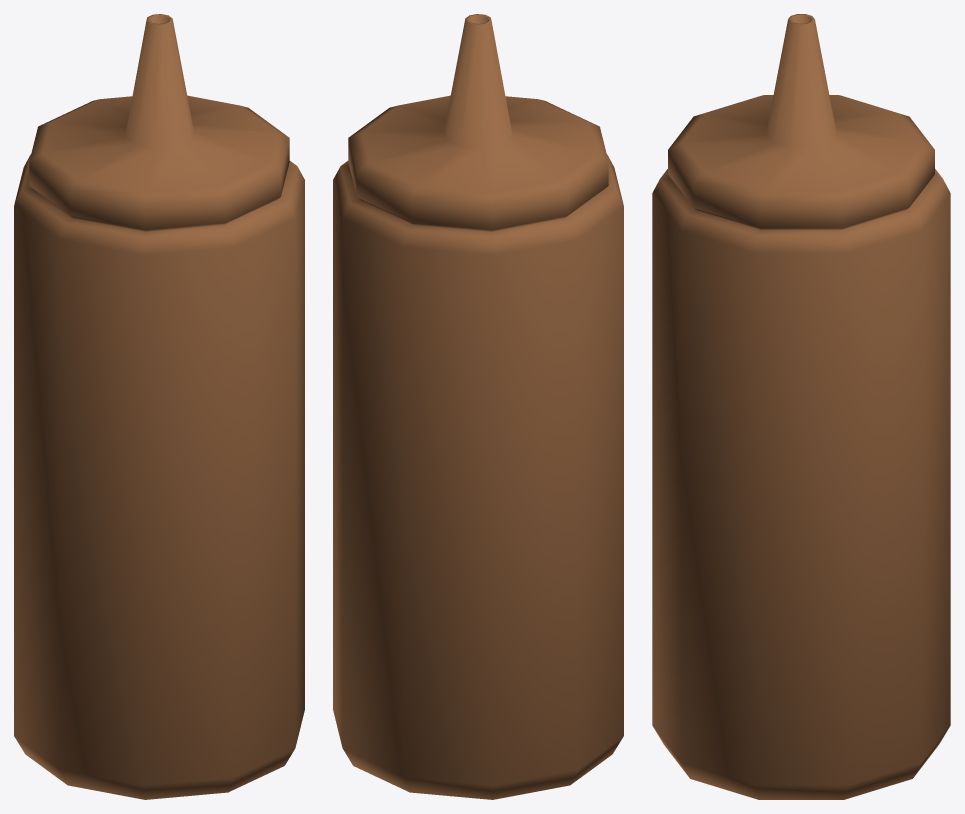
Rendered from Chocolate Bottle.fbx.
3 renders of one model, left to right at view 1: azimuth 30°, elevation 25°; view 2: azimuth 150°, elevation 25°; view 3: azimuth 270°, elevation 25°, orthographic.
Parts seen in each view (by area): view 1: Chocolate Sauce; view 2: Chocolate Sauce; view 3: Chocolate Sauce.
Part boxes in pixels (x1=…): Chocolate Sauce: x1=14, y1=14, x2=304, y2=799; Chocolate Sauce: x1=333, y1=14, x2=623, y2=799; Chocolate Sauce: x1=652, y1=14, x2=950, y2=799.
Size of the model in its own units: 12.98 by 36.6 by 13.65.
